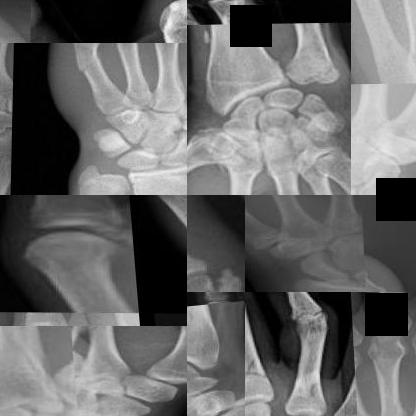fracture: (0, 326, 63, 370), (66, 326, 133, 354), (187, 263, 244, 292), (75, 47, 111, 89), (245, 349, 271, 393), (283, 278, 364, 291), (208, 407, 245, 415)
